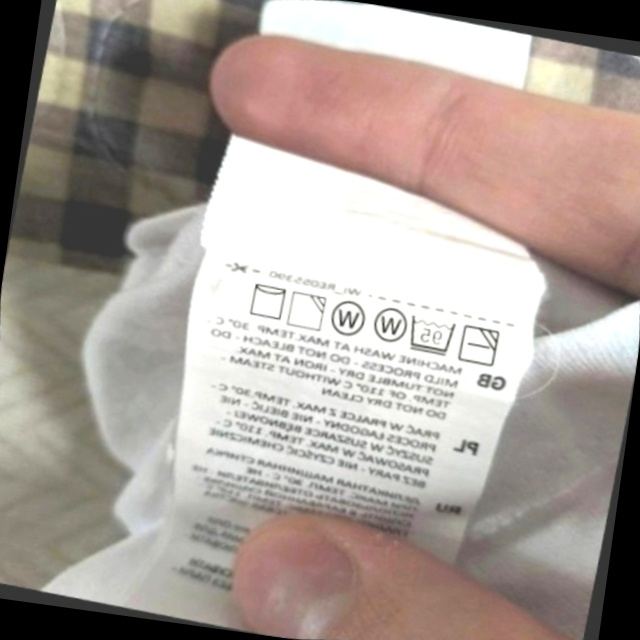95C: (398, 305, 464, 364)
dry_flat_in_shade: (451, 315, 509, 375)
line_dry: (239, 273, 295, 328)
shade_dry: (279, 283, 334, 339)
wet_clean: (321, 291, 375, 347), (363, 295, 416, 351)
